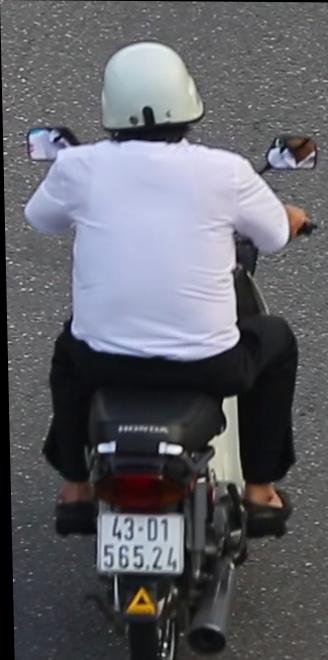LP: (93, 507, 187, 582)
helmet: (93, 34, 206, 155)
